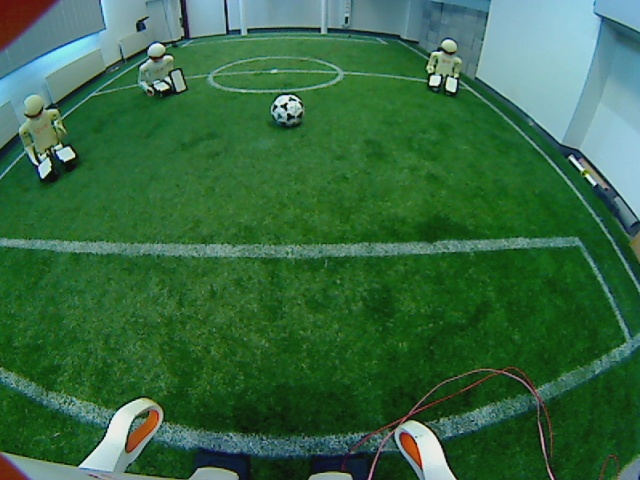ball: (267, 91, 308, 131)
robot: (15, 93, 79, 189), (136, 38, 191, 103), (423, 33, 467, 99)
